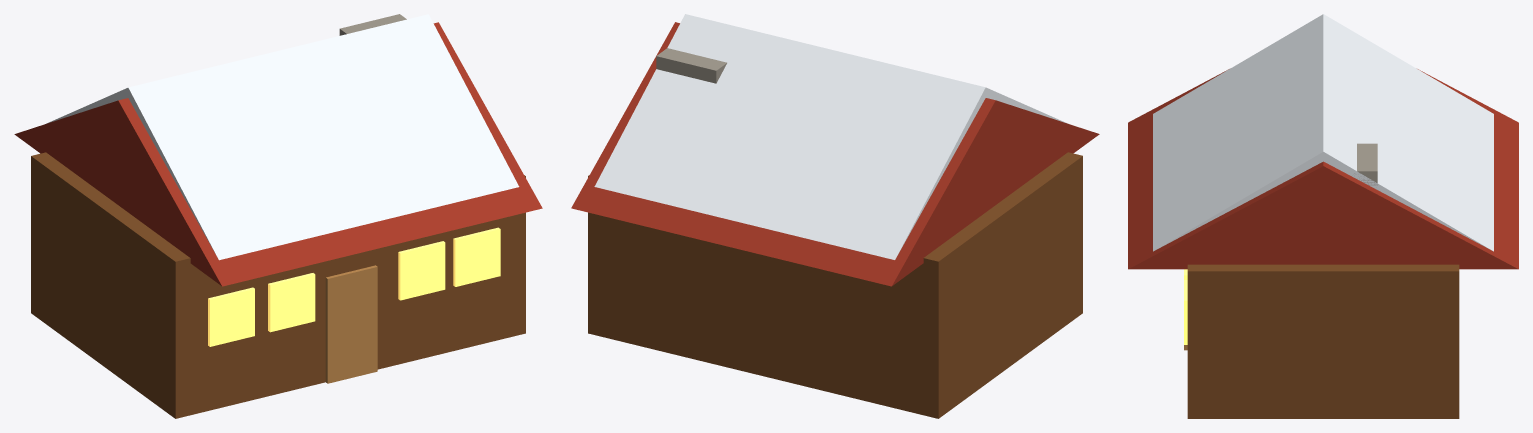
File: lodge.glb
The picture shows the model from 3 angles, left to right: view 1: azimuth 30°, elevation 25°; view 2: azimuth 150°, elevation 25°; view 3: azimuth 270°, elevation 25°; orthographic projection. The views are drawn at different scales.
Parts seen in each view (by area): view 1: lodge; view 2: lodge; view 3: lodge.
Part boxes in pixels (box(x1,y1,x2,y2)): lodge: box(14, 14, 542, 418); lodge: box(571, 14, 1099, 418); lodge: box(1128, 14, 1518, 418).
Bounding box in the file's own units: 7 × 5.2 × 7.2.
